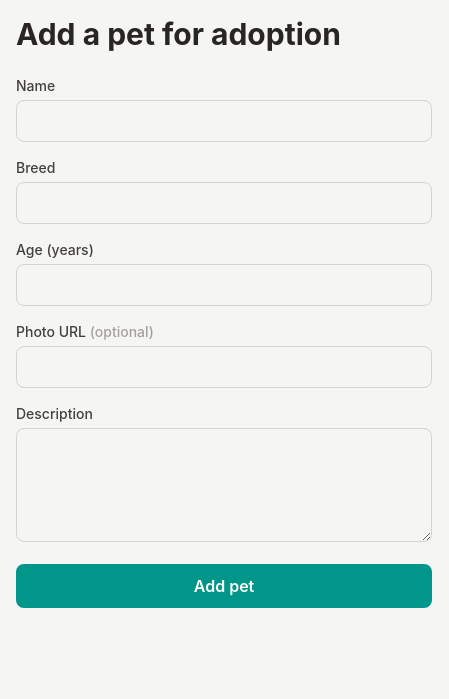
Test: AddPetPage › shows an error when saving fails
The width and height of the screenshot is (449, 699).
Expected: the heading "Add a pet for adoption" is shown, [16,16,341,52]
In the field labelled "Name": (224, 121) [16,100,432,142], type "Rocky"
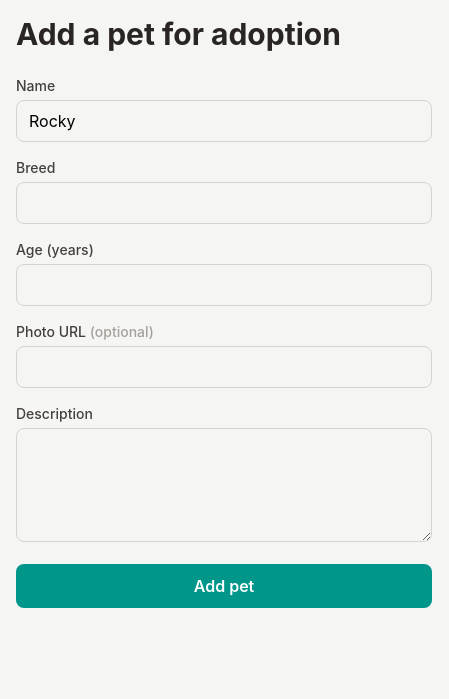
In the field labelled "Breed": (224, 203) [16,182,432,224], type "Shepherd"
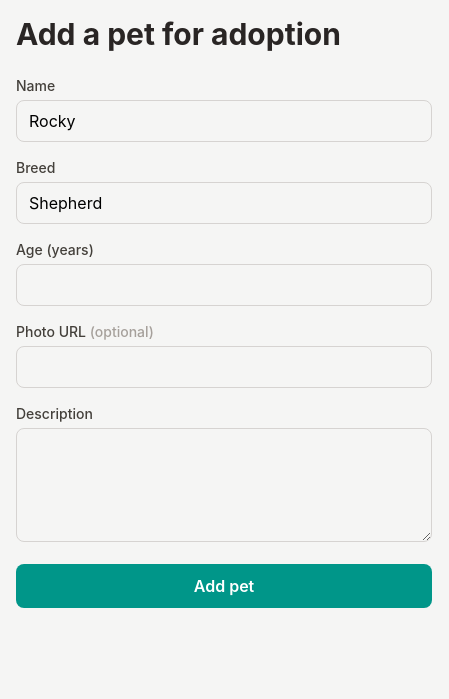
In the number field labelled "Age (years)": (224, 285) [16,264,432,306], type "3"
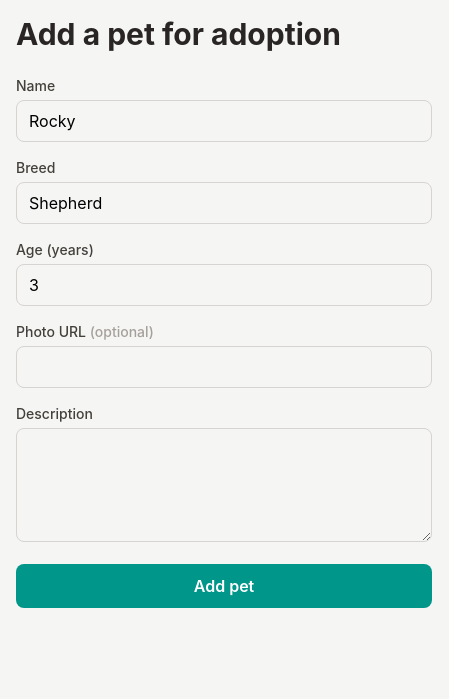
In the text box labelled "Description": (224, 485) [16,428,432,542], type "Loyal"
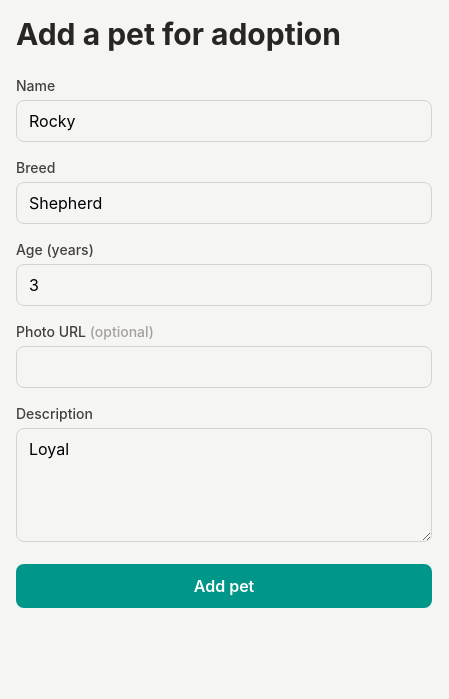
Click the button "Add pet": (224, 586) [16,564,432,608]
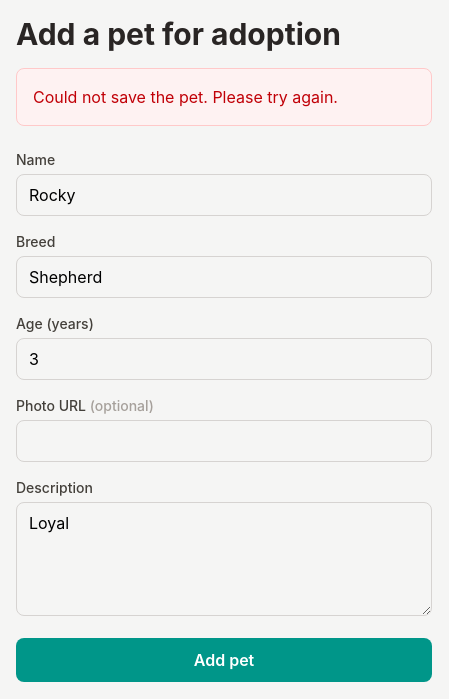
Now the text "Could not save the pet. Please try again." is shown, box [16,68,432,126]
